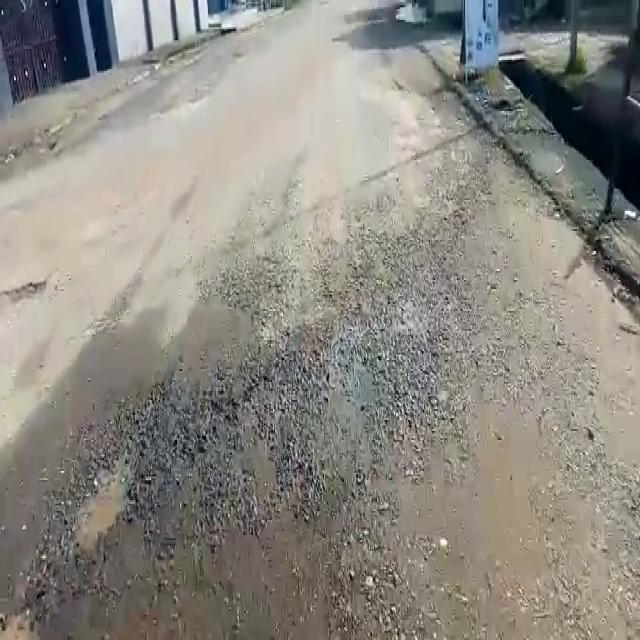Pothole: (76, 456, 125, 553)
